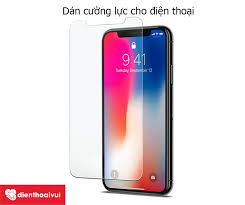iphone: (100, 25, 173, 192)
iphone10: (100, 26, 173, 193)
